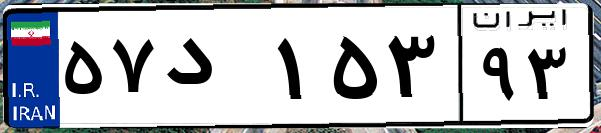1: (270, 28, 330, 110)
3: (385, 28, 445, 110), (525, 38, 570, 115)
5: (330, 28, 385, 110), (57, 26, 110, 100)
7: (110, 28, 158, 98)
9: (475, 38, 525, 113)
د: (158, 20, 270, 120)
